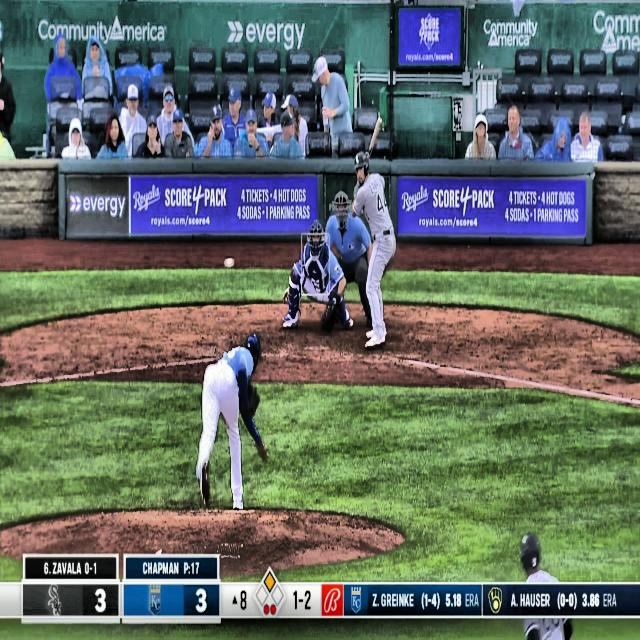baseball: (223, 256, 235, 270)
